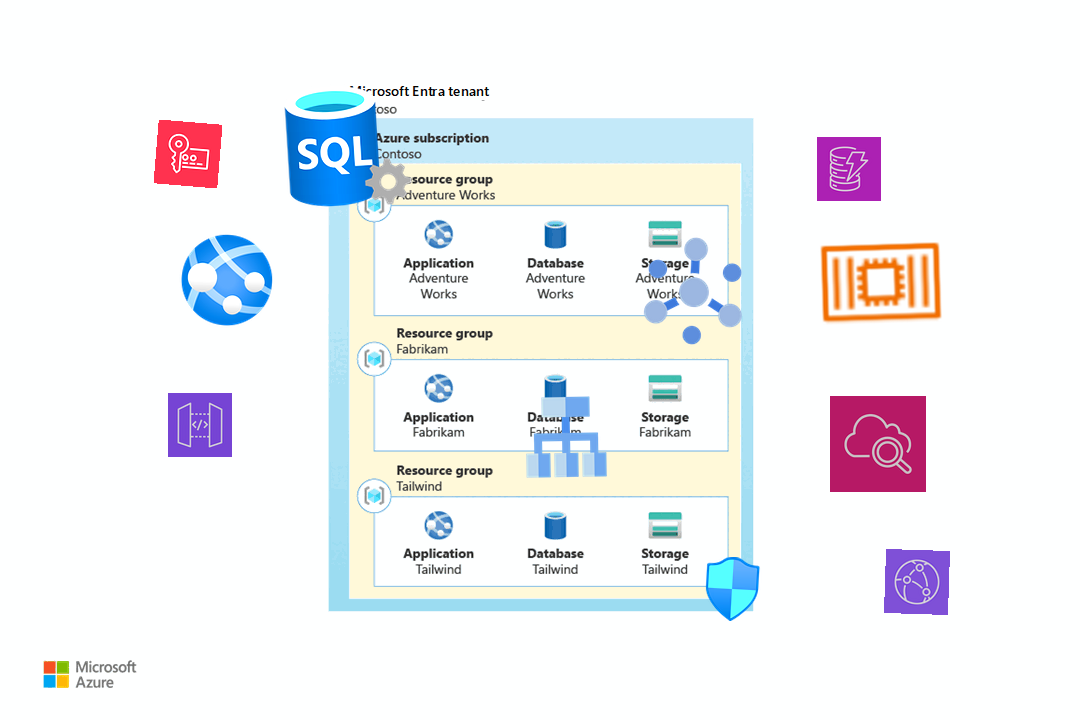aws_amazon_api_gateway: (167, 392, 233, 458)
aws_amazon_cloudfront: (884, 549, 950, 615)
aws_amazon_cloudwatch: (829, 395, 927, 493)
aws_amazon_dynamodb: (816, 136, 882, 202)
aws_elastic_container_service_container_2: (815, 216, 947, 348)
aws_key_management_service: (153, 119, 223, 189)
azure_app_services: (177, 230, 277, 330)
azure_network_security_groups: (698, 555, 766, 623)
azure_sql_server: (280, 78, 416, 214)
gcp_cloud_load_balancing: (517, 388, 615, 486)
gcp_pubsub: (626, 223, 762, 359)
